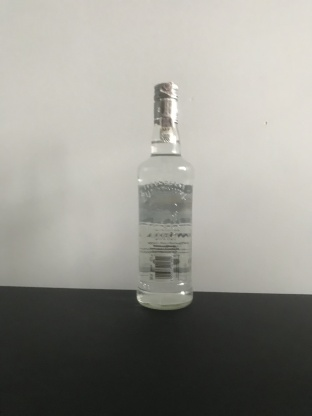nakretka: (152, 80, 180, 124)
